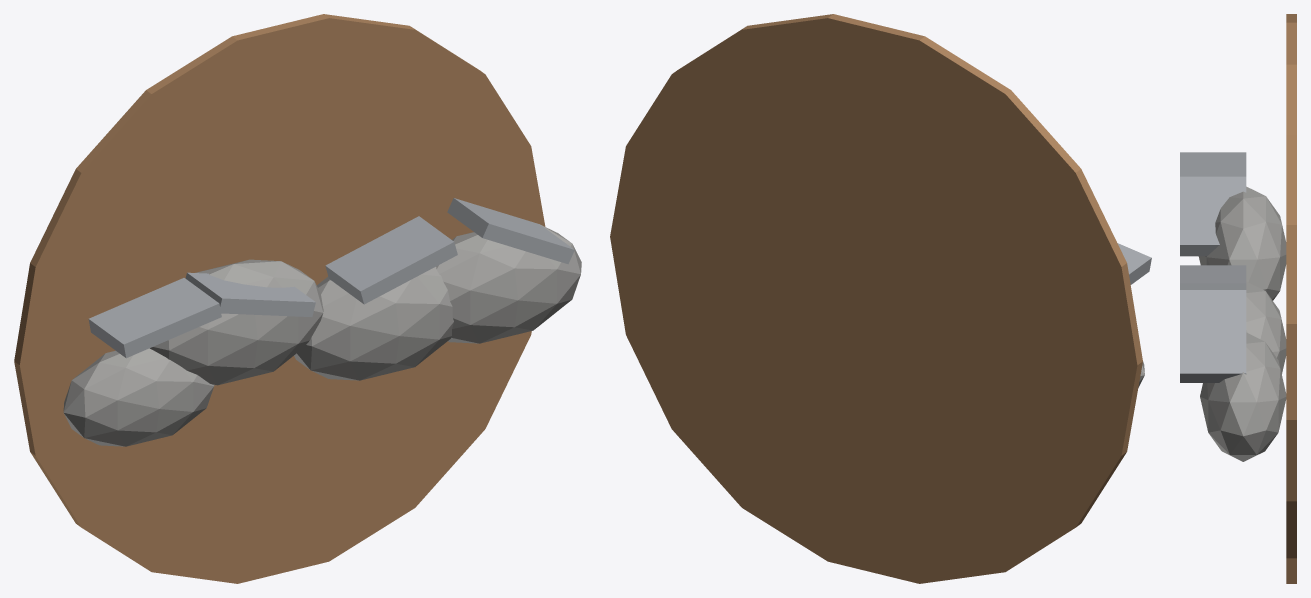
File: 02_local_prop_cluster.glb
3 views of the same model, side by side, from view 1: azimuth 30°, elevation 25°; view 2: azimuth 150°, elevation 25°; view 3: azimuth 270°, elevation 25° (orthographic). The views are drawn at different scales.
Parts seen in each view (by area): view 1: scatter_base, scrap_rock_2, scrap_rock_3, scrap_rock_0, scrap_rock_1, scrap_plate_2, scrap_plate_0, scrap_plate_3, scrap_plate_1; view 2: scatter_base, scrap_plate_0; view 3: scrap_rock_3, scatter_base, scrap_plate_3, scrap_rock_1, scrap_plate_1, scrap_rock_2, scrap_plate_0, scrap_plate_2.
Boxes of the visible parts, box(x1,y1,x2,y2) form: scatter_base: box(14, 14, 545, 583); scrap_rock_2: box(294, 267, 453, 380); scrap_rock_3: box(436, 224, 581, 343); scrap_rock_0: box(63, 348, 214, 446); scrap_rock_1: box(150, 259, 323, 385); scrap_plate_2: box(325, 216, 457, 304); scrap_plate_0: box(88, 278, 221, 358); scrap_plate_3: box(447, 198, 574, 264); scrap_plate_1: box(185, 272, 315, 316); scatter_base: box(610, 14, 1142, 583); scrap_plate_0: box(1117, 243, 1151, 284); scrap_rock_3: box(1200, 332, 1286, 461); scatter_base: box(1286, 14, 1296, 583); scrap_plate_3: box(1180, 290, 1246, 382); scrap_rock_1: box(1198, 186, 1286, 300); scrap_plate_1: box(1180, 176, 1246, 256); scrap_rock_2: box(1246, 281, 1286, 374); scrap_plate_0: box(1180, 152, 1246, 176); scrap_plate_2: box(1180, 265, 1246, 289).
Size of the model in its own units: 1.94 by 1.87 by 0.3875.
